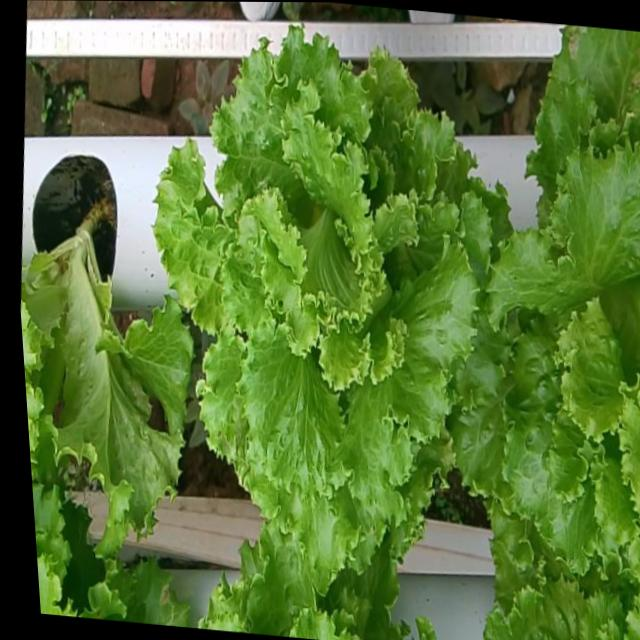Mature: (162, 20, 498, 561), (460, 127, 640, 564)
